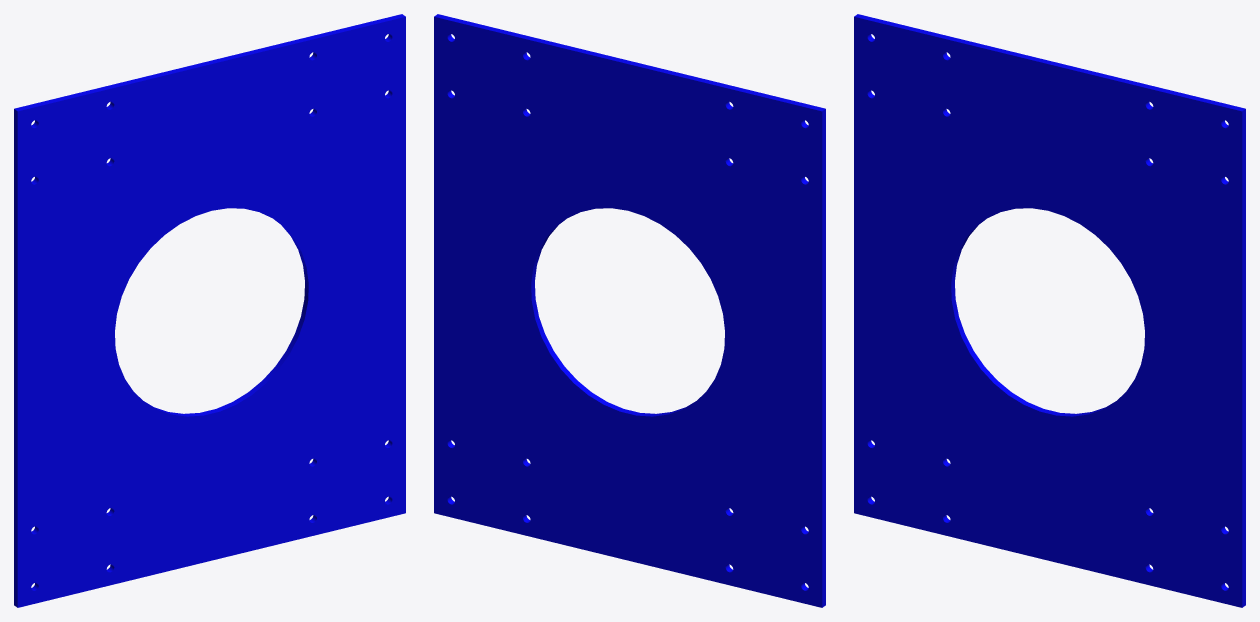
Rendered from haut_1.dae.
3 views of the same model, side by side, from view 1: azimuth 30°, elevation 25°; view 2: azimuth 150°, elevation 25°; view 3: azimuth 330°, elevation 25° (orthographic).
Visible parts, largest first — view 1: node0; view 2: node0; view 3: node0.
Part boxes in pixels (<box>): node0: <box>14,14,405,607</box>; node0: <box>434,14,825,607</box>; node0: <box>854,14,1245,607</box>.
Bounding box in the file's own units: 0.18 × 0.22 × 0.003.
